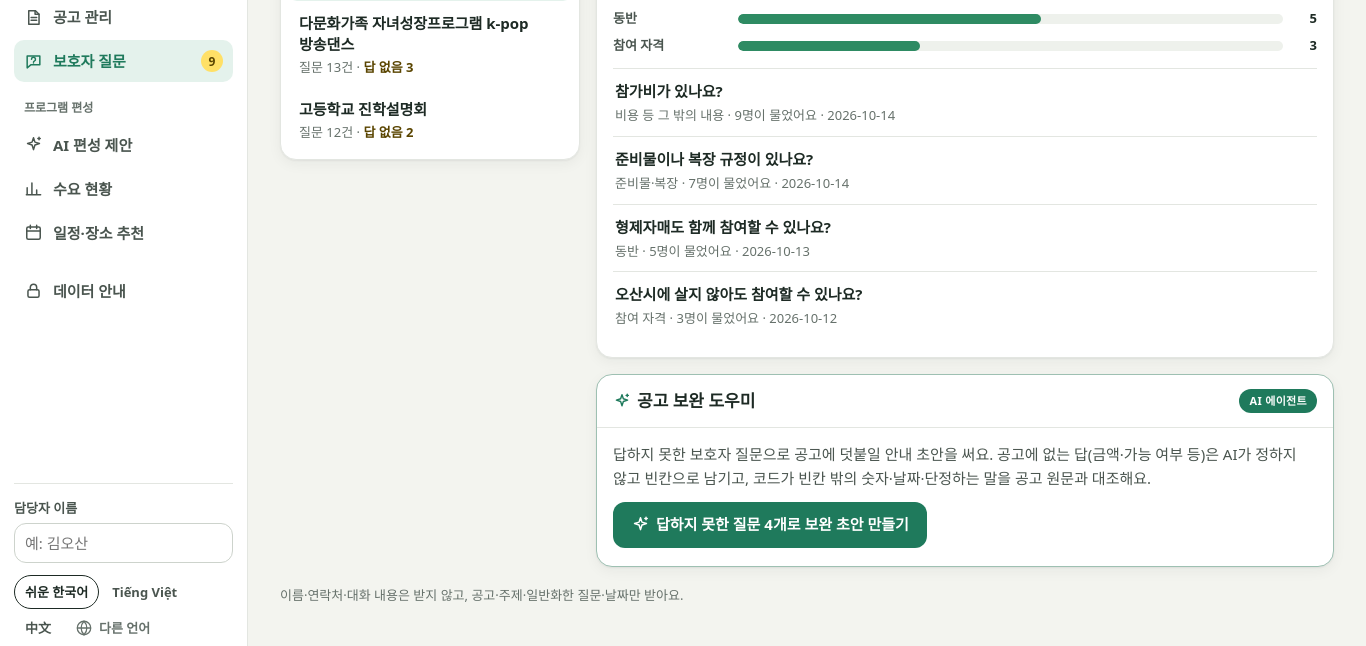
Test: 공고 보완 도우미 › 도우미가 실패하면 서버의 오류 문장을 보여 준다
The width and height of the screenshot is (1366, 646).
(page scrolled)
Click the button "답하지 못한 질문 4개로 보완 초안 만들기" at (770, 525), box [613,502,927,548]
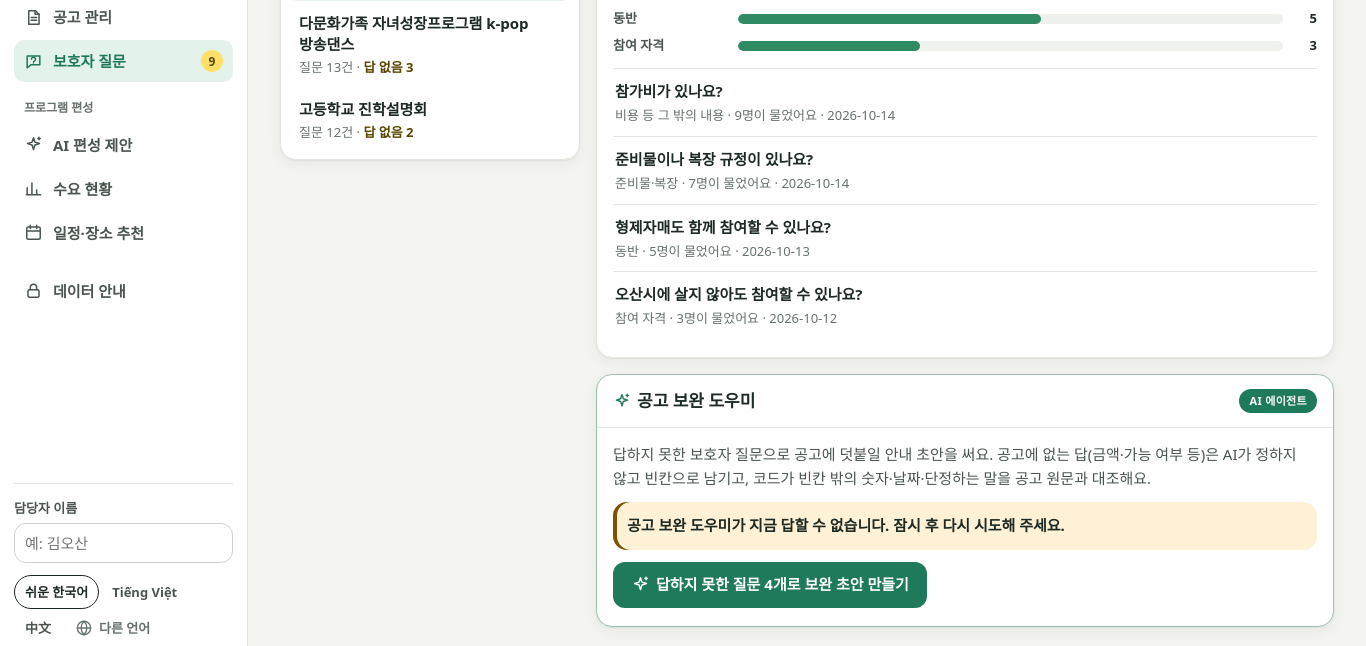
Expected: the text "공고 보완 도우미가 지금 답할 수 없습니다. 잠시 후 다시 시도해 주세요." is shown, [627,515,1065,535]
